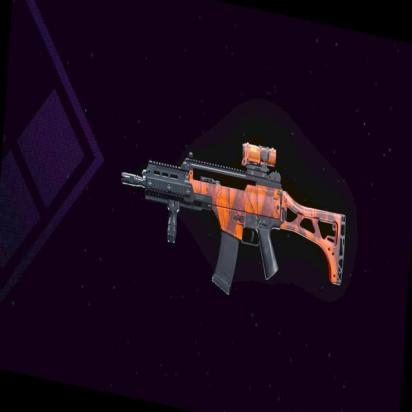Gun: (119, 137, 350, 296)
